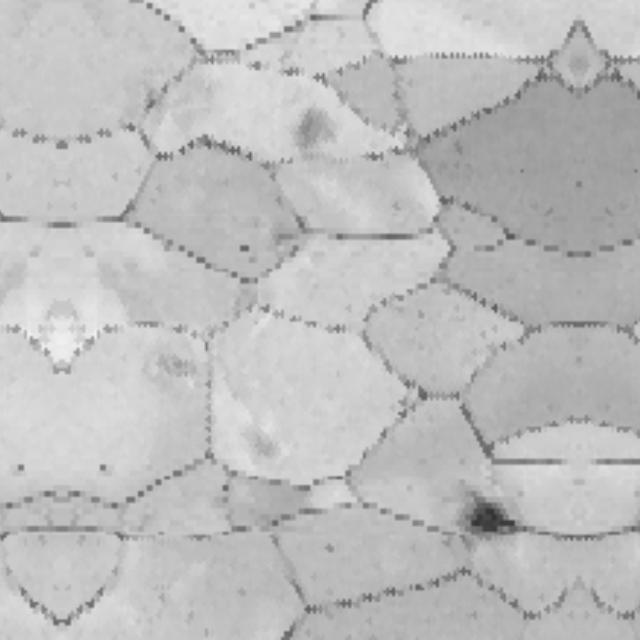good_void: (451, 480, 518, 548), (287, 103, 347, 155), (320, 544, 339, 557), (221, 481, 233, 499), (237, 242, 252, 255), (98, 458, 108, 475), (14, 458, 24, 475)
